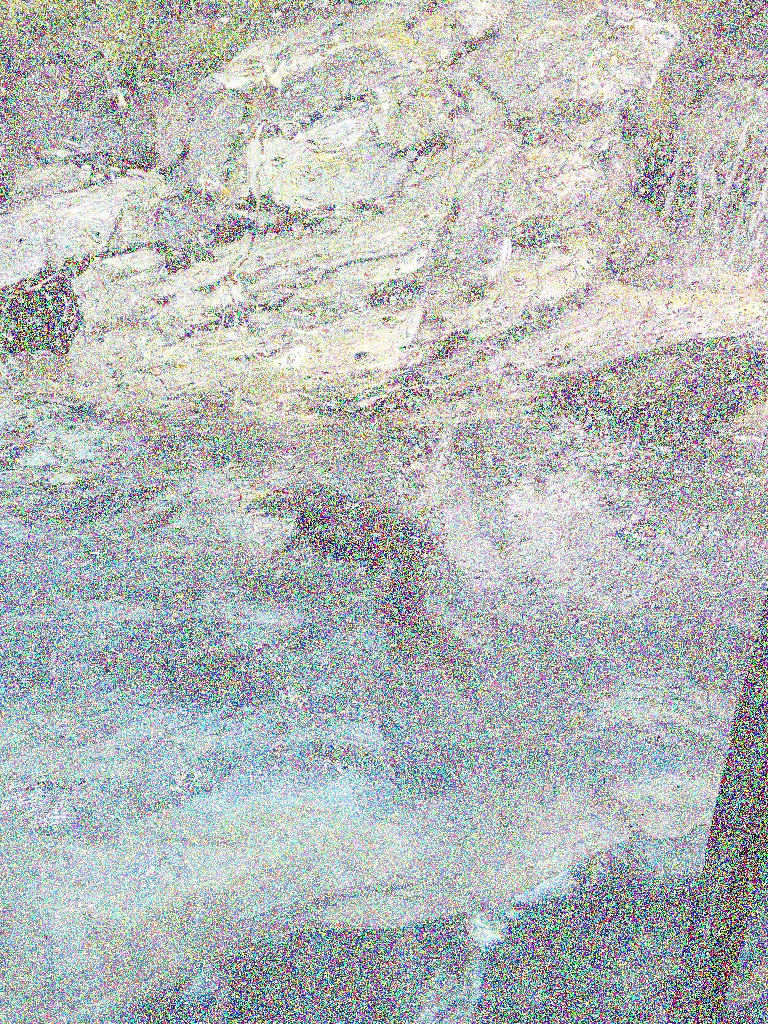puffin: (247, 480, 493, 710), (136, 168, 232, 268), (72, 84, 140, 180)
